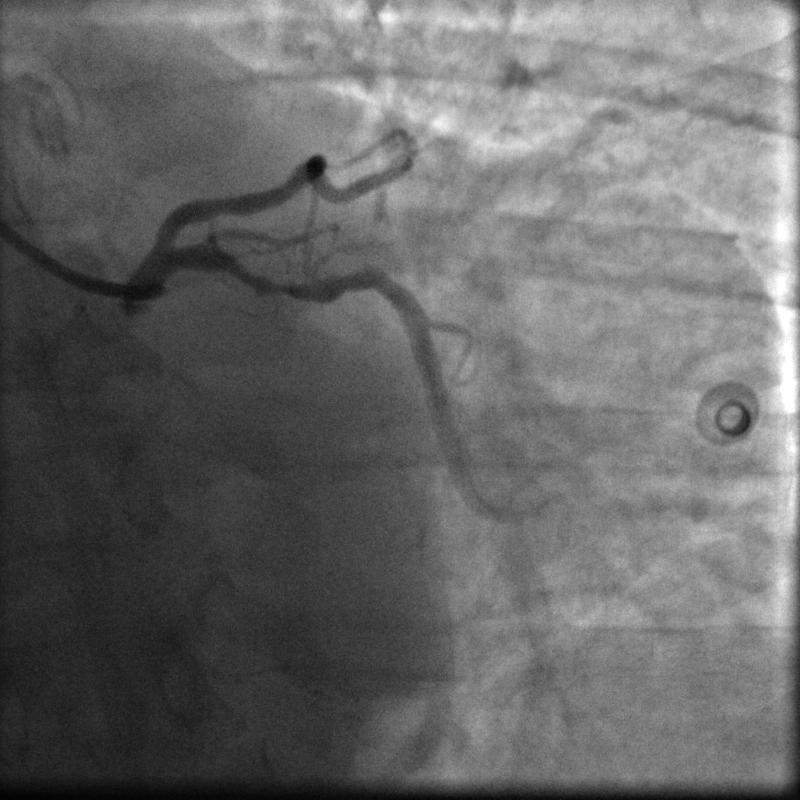Stenosis: (252, 272, 317, 301)
